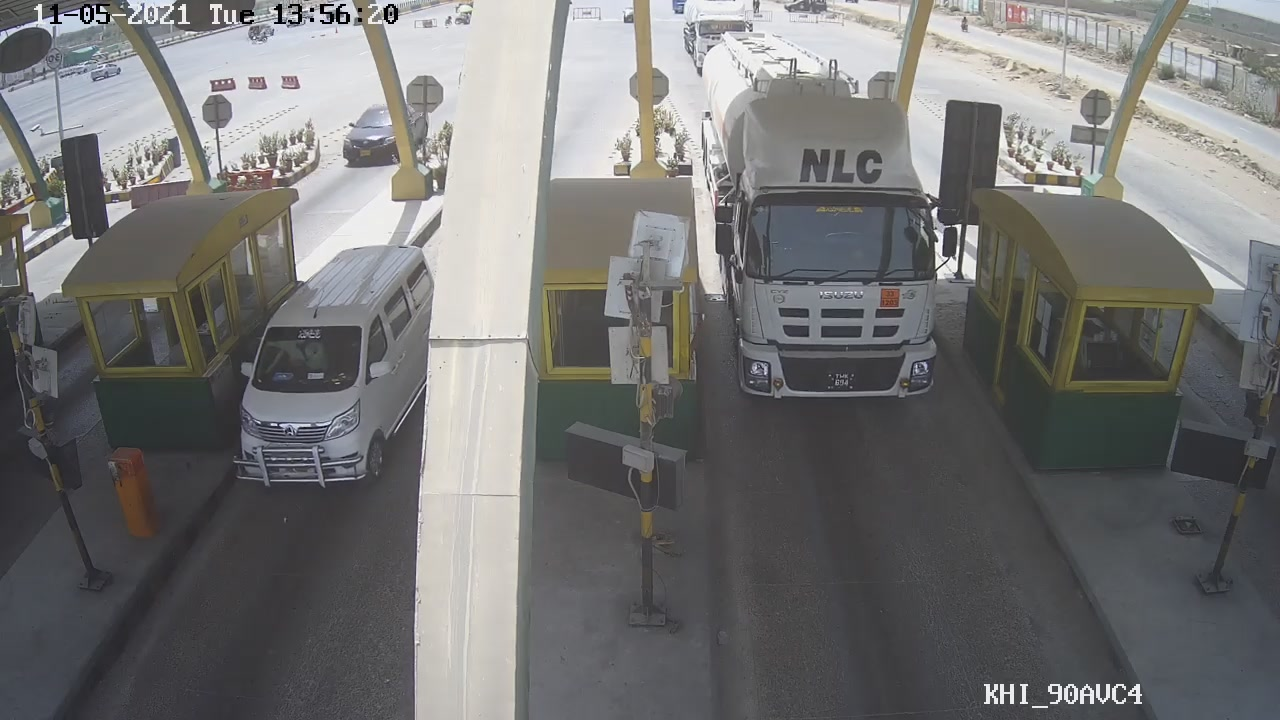F6: (702, 39, 954, 408)
